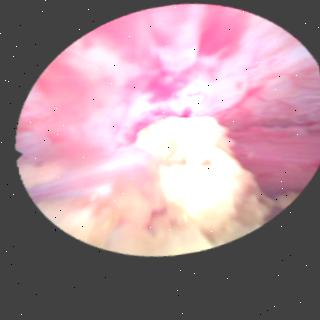stone: (39, 118, 292, 255)
tissue: (22, 9, 320, 197)
